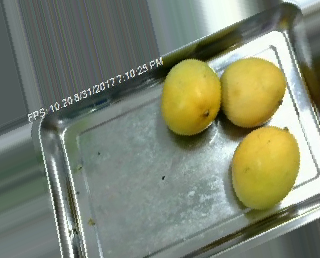Mango: (232, 124, 303, 214), (161, 56, 226, 139), (222, 56, 290, 126)
